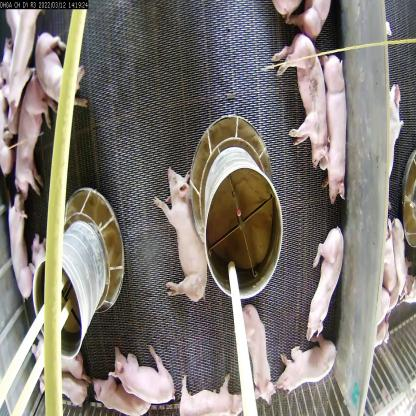Pig: (271, 30, 331, 183), (158, 162, 207, 310), (41, 26, 95, 123), (229, 303, 284, 397), (0, 1, 42, 119), (318, 36, 349, 186), (112, 350, 189, 410), (178, 368, 272, 415), (308, 221, 344, 342), (20, 73, 51, 207), (36, 316, 89, 382), (273, 342, 340, 391), (8, 178, 36, 282), (98, 368, 155, 415)
